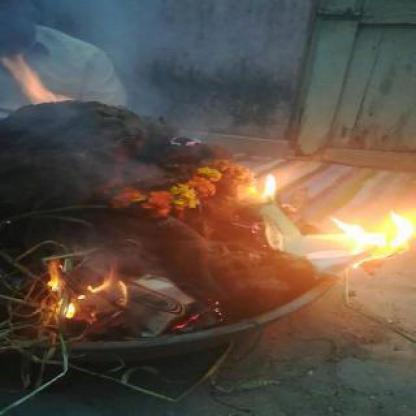Fire: (310, 206, 414, 268), (39, 261, 135, 321), (6, 55, 64, 105), (251, 166, 281, 207)
